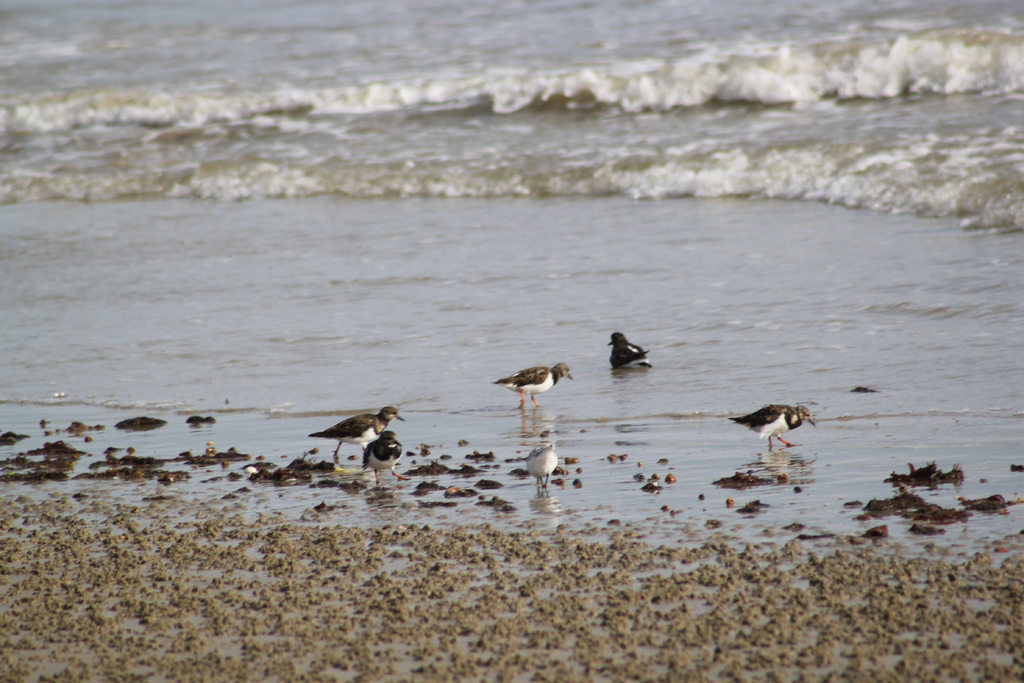Bird: (308, 332, 816, 488)
